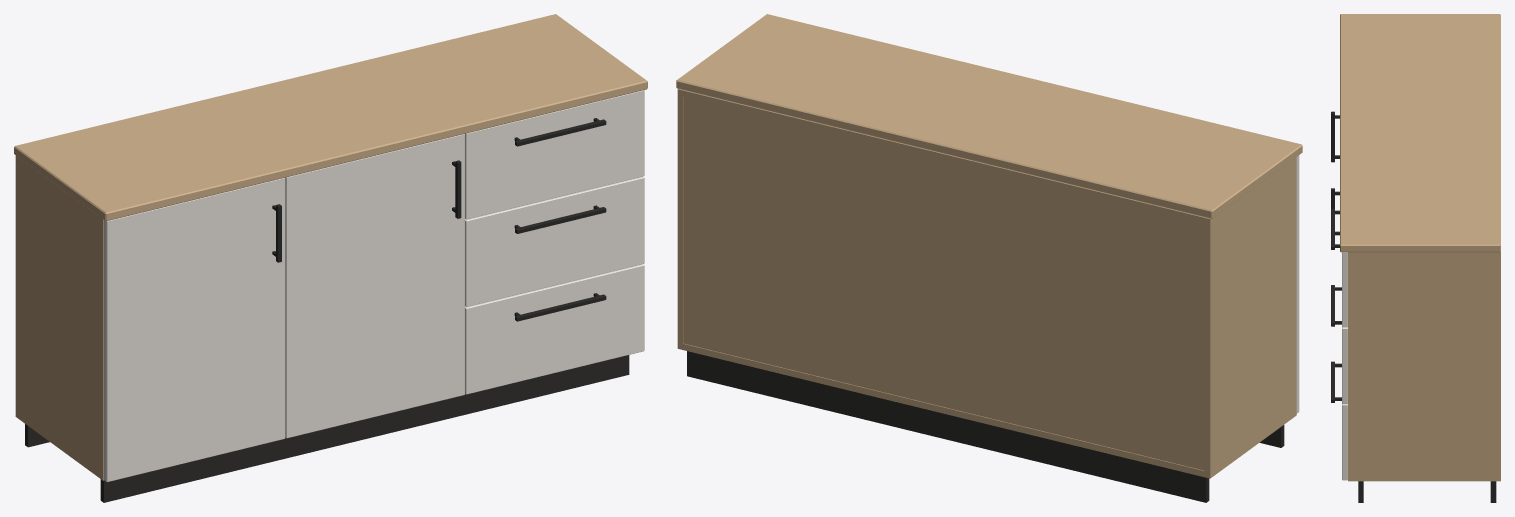
Rendered from 23_komoda_160_2d_3sz.glb.
3 renders of one model, left to right at view 1: azimuth 30°, elevation 25°; view 2: azimuth 150°, elevation 25°; view 3: azimuth 270°, elevation 25°, orthographic. The views are drawn at different scales.
Visible parts, largest first — view 1: Wierzch, Front_drzwi_1, Front_drzwi_2, Korpus, Front_szuflada_5, Front_szuflada_4, Front_szuflada_3, Cokol, Uchwyty; view 2: Korpus, Wierzch, Cokol, Front_drzwi_1; view 3: Wierzch, Korpus, Uchwyty, Front_szuflada_4, Front_szuflada_5, Front_szuflada_3, Cokol.
Boxes of the visible parts, x1,y1,x2,y2 form: Wierzch: [14, 14, 647, 221]; Front_drzwi_1: [103, 178, 285, 482]; Front_drzwi_2: [285, 134, 464, 438]; Korpus: [15, 155, 103, 480]; Front_szuflada_5: [465, 264, 644, 394]; Front_szuflada_4: [465, 176, 644, 306]; Front_szuflada_3: [465, 90, 644, 219]; Cokol: [25, 355, 629, 502]; Uchwyty: [272, 118, 606, 321]; Korpus: [677, 89, 1296, 478]; Wierzch: [676, 14, 1302, 218]; Cokol: [687, 351, 1284, 502]; Front_drzwi_1: [1296, 155, 1299, 413]; Wierzch: [1340, 14, 1500, 252]; Korpus: [1348, 251, 1500, 481]; Uchwyty: [1331, 111, 1341, 402]; Front_szuflada_4: [1342, 327, 1347, 403]; Front_szuflada_5: [1342, 404, 1347, 480]; Front_szuflada_3: [1342, 252, 1347, 327]; Cokol: [1358, 481, 1496, 502].
Bounding box in the file's own units: 1.61 × 0.85 × 0.5.
